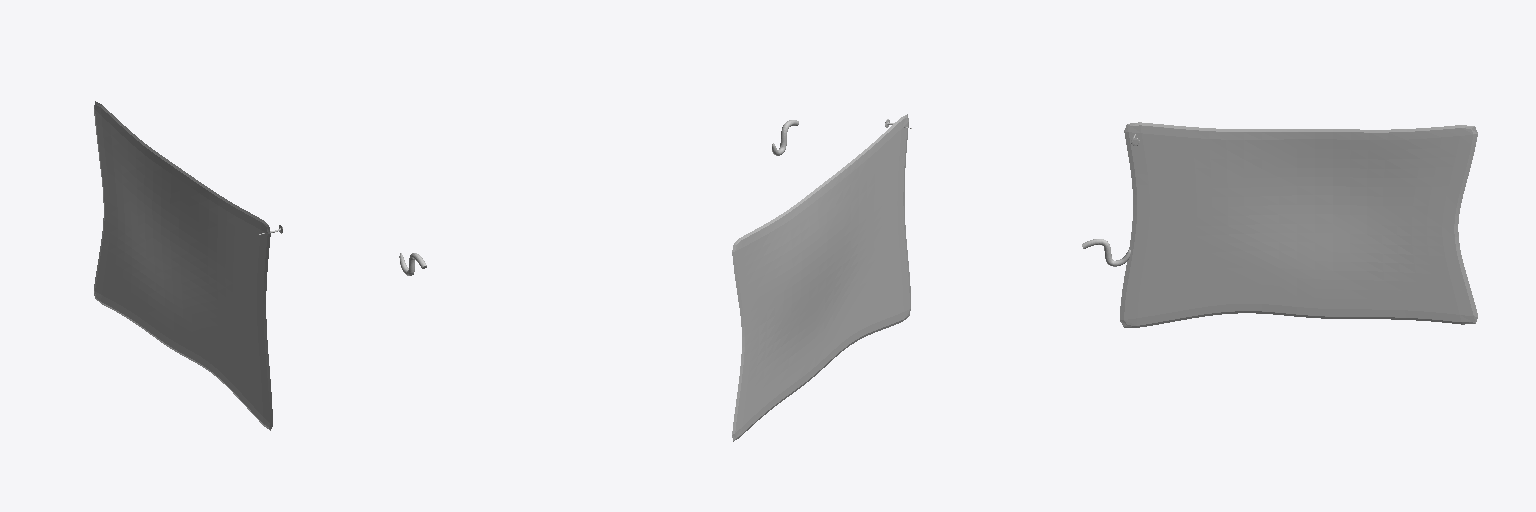
File: cabinetToolsHP.obj
3 views of the same model, side by side, from view 1: azimuth 30°, elevation 25°; view 2: azimuth 150°, elevation 25°; view 3: azimuth 270°, elevation 25° (orthographic).
Parts seen in each view (by area): view 1: pPlane25 Diagram; view 2: pPlane25 Diagram; view 3: pPlane25 Diagram.
Boxes of the visible parts, <box> form: pPlane25 Diagram: <box>94,101,272,430</box>; pPlane25 Diagram: <box>732,114,910,441</box>; pPlane25 Diagram: <box>1120,122,1477,327</box>.
Bounding box in the file's own units: 1.12 × 1.51 × 2.63.